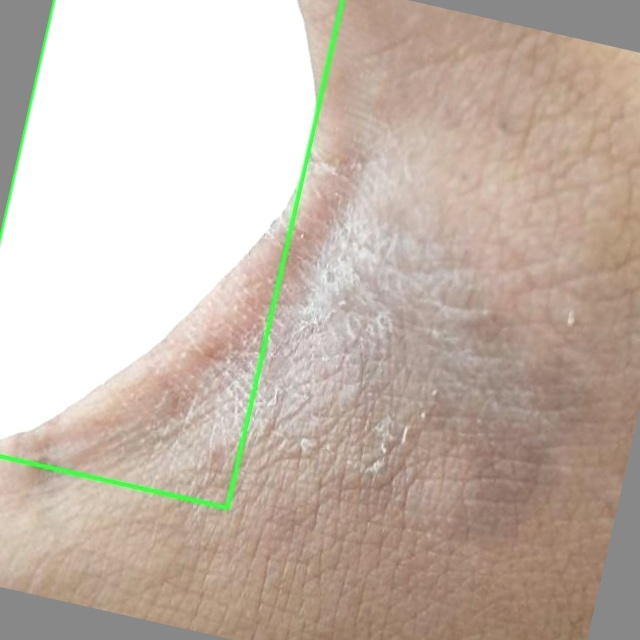Scabies: (0, 0, 342, 507)
